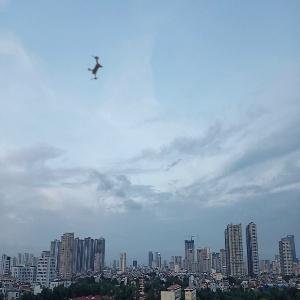drone: (75, 49, 118, 92)
